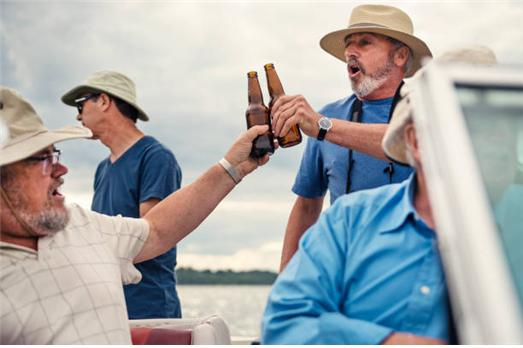alcohol: (266, 63, 304, 148), (245, 70, 277, 157)
